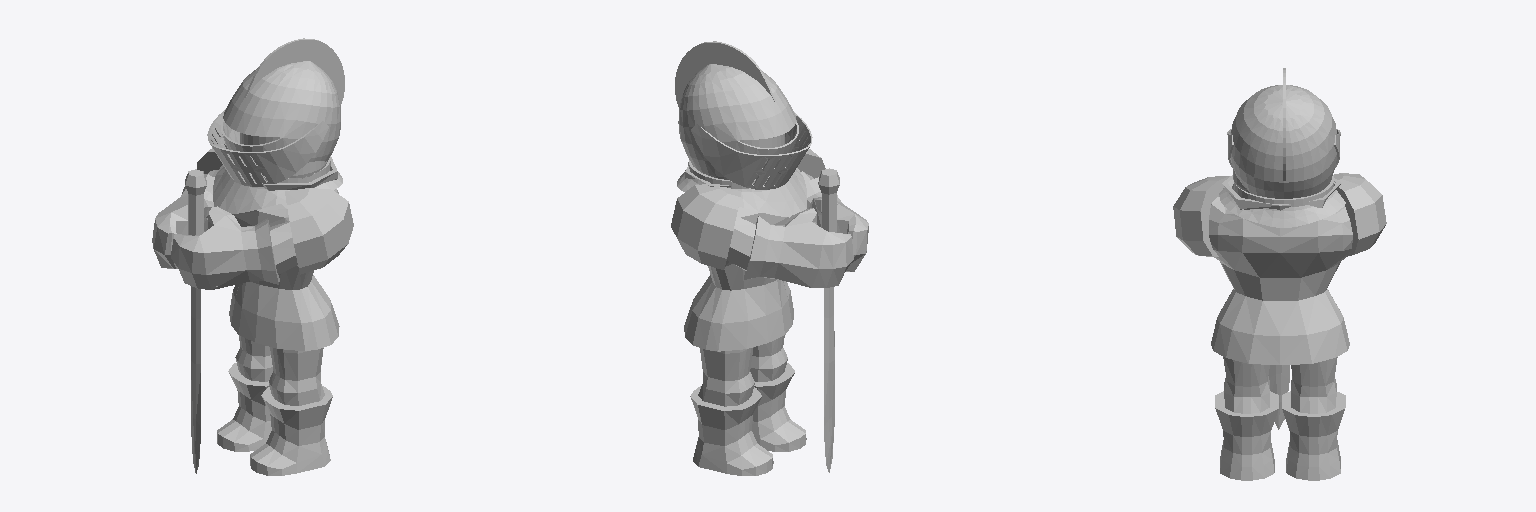
The model's file is knight.obj.
3 renders of one model, left to right at view 1: azimuth 30°, elevation 25°; view 2: azimuth 150°, elevation 25°; view 3: azimuth 270°, elevation 25°, orthographic.
Parts seen in each view (by area): view 1: HelpfullWarrior7 initialShadingGroup initialShadingGroup1 polySu; view 2: HelpfullWarrior7 initialShadingGroup initialShadingGroup1 polySu; view 3: HelpfullWarrior7 initialShadingGroup initialShadingGroup1 polySu.
Boxes of the visible parts, x1,y1,x2,y2 form: HelpfullWarrior7 initialShadingGroup initialShadingGroup1 polySu: [152, 38, 353, 475]; HelpfullWarrior7 initialShadingGroup initialShadingGroup1 polySu: [671, 41, 868, 475]; HelpfullWarrior7 initialShadingGroup initialShadingGroup1 polySu: [1173, 68, 1386, 480].
Bounding box in the file's own units: 0.5851 × 1.26 × 0.5978.